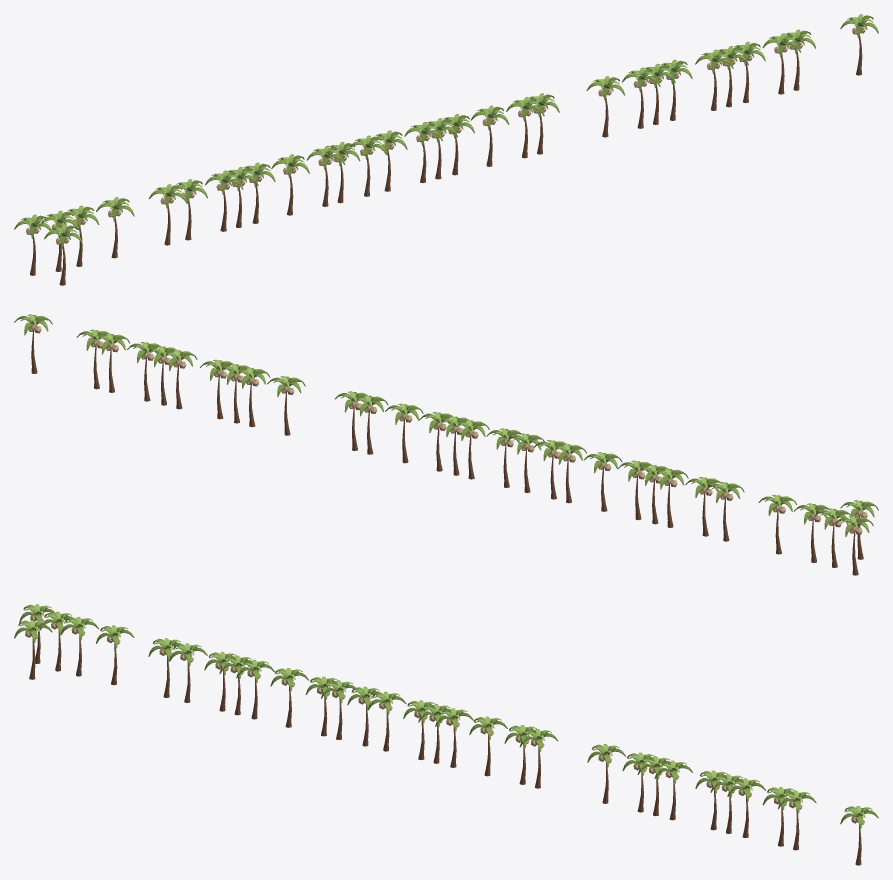
3 views of the same model, one above another, from view 1: azimuth 30°, elevation 25°; view 2: azimuth 150°, elevation 25°; view 3: azimuth 330°, elevation 25° (orthographic).
Parts seen in each view (by area): view 1: palm_1.043, palm_1.163, palm_1.033, palm_1.062, palm_1.145, palm_1.066, palm_1.034, palm_1.063, palm_1.039, palm_1.069, palm_1.057, palm_1.031 (+1 smaller); view 2: palm_1.062, palm_1.066, palm_1.069, palm_1.163, palm_1.043, palm_1.033, palm_1.034, palm_1.063, palm_1.058, palm_1.035, palm_1.054, palm_1.068 (+6 smaller); view 3: palm_1.145, palm_1.062, palm_1.054, palm_1.163, palm_1.061, palm_1.034, palm_1.043, palm_1.066, palm_1.067, palm_1.038, palm_1.060.
Boxes of the visible parts, box(x1,y1,x2,y2) form: palm_1.043: box(586, 76, 624, 137); palm_1.163: box(840, 14, 878, 75); palm_1.033: box(148, 184, 187, 245); palm_1.062: box(471, 105, 509, 166); palm_1.145: box(44, 224, 82, 285); palm_1.066: box(96, 197, 134, 258); palm_1.034: box(271, 154, 309, 215); palm_1.063: box(348, 135, 386, 196); palm_1.039: box(762, 33, 800, 94); palm_1.069: box(14, 214, 51, 275); palm_1.057: box(205, 170, 243, 231); palm_1.031: box(306, 145, 345, 206); palm_1.062: box(385, 403, 423, 463); palm_1.066: box(758, 494, 796, 554); palm_1.069: box(835, 516, 873, 575); palm_1.163: box(14, 314, 52, 373); palm_1.043: box(267, 376, 305, 435); palm_1.033: box(706, 482, 744, 541); palm_1.034: box(584, 452, 622, 511); palm_1.063: box(507, 433, 544, 492); palm_1.058: box(453, 419, 489, 479); palm_1.035: box(161, 349, 197, 409); palm_1.054: box(685, 477, 720, 536); palm_1.068: box(814, 508, 850, 567); palm_1.145: box(14, 620, 52, 679); palm_1.062: box(469, 716, 507, 776); palm_1.054: box(169, 643, 207, 702); palm_1.163: box(840, 806, 878, 865); palm_1.061: box(368, 691, 406, 751); palm_1.034: box(270, 668, 308, 727); palm_1.043: box(587, 744, 625, 803); palm_1.066: box(96, 625, 134, 685); palm_1.067: box(60, 617, 98, 676); palm_1.038: box(778, 790, 816, 850); palm_1.060: box(435, 708, 473, 767).
Bounding box in the file's own units: 98.49 × 6.08 × 7.17.
Materials: 31 (31 with a texture image).
